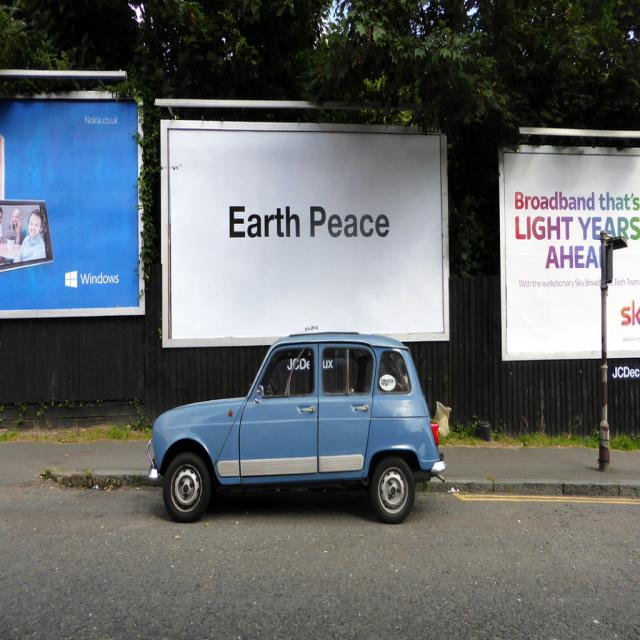car: (145, 327, 446, 525)
